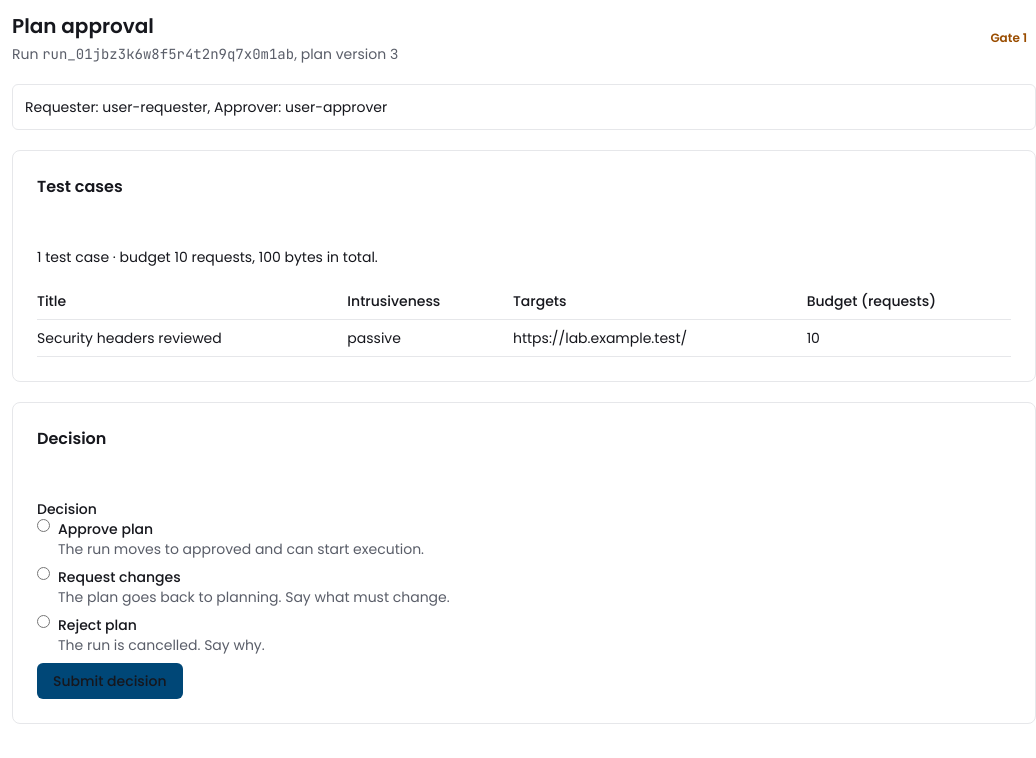
Scenario: Gate1Review: the approver › renders a server SoD refusal clearly, without a retry
Click the radio button labelled "Approve plan".
click(44, 526)  # box [37,519,50,532]
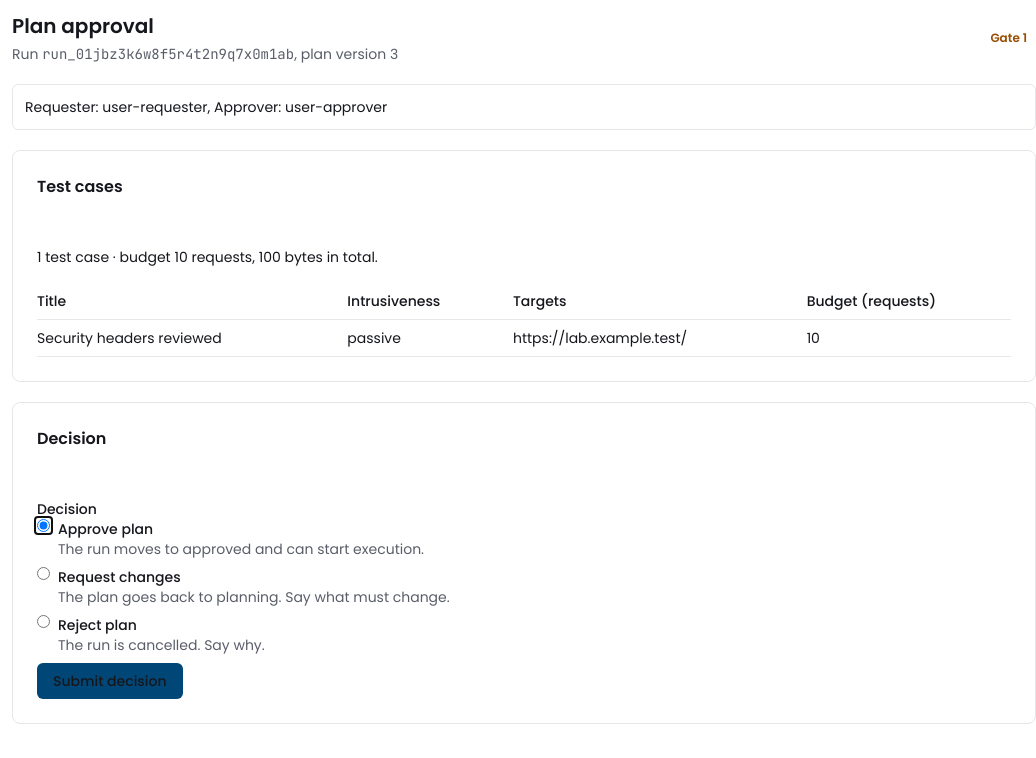
Click the button "Submit decision".
click(110, 681)  # box [37,663,182,699]
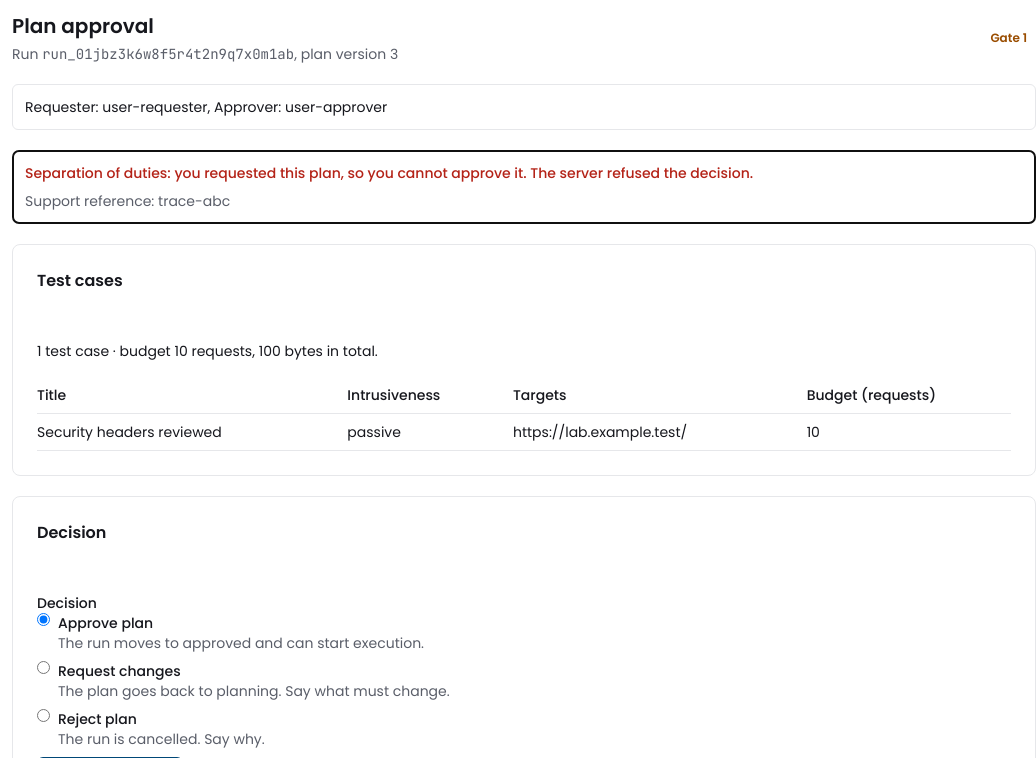
Expected: the message shows "Separation of duties", [25,163,753,183]
Expected: the message shows "trace-abc", [158,191,230,211]
